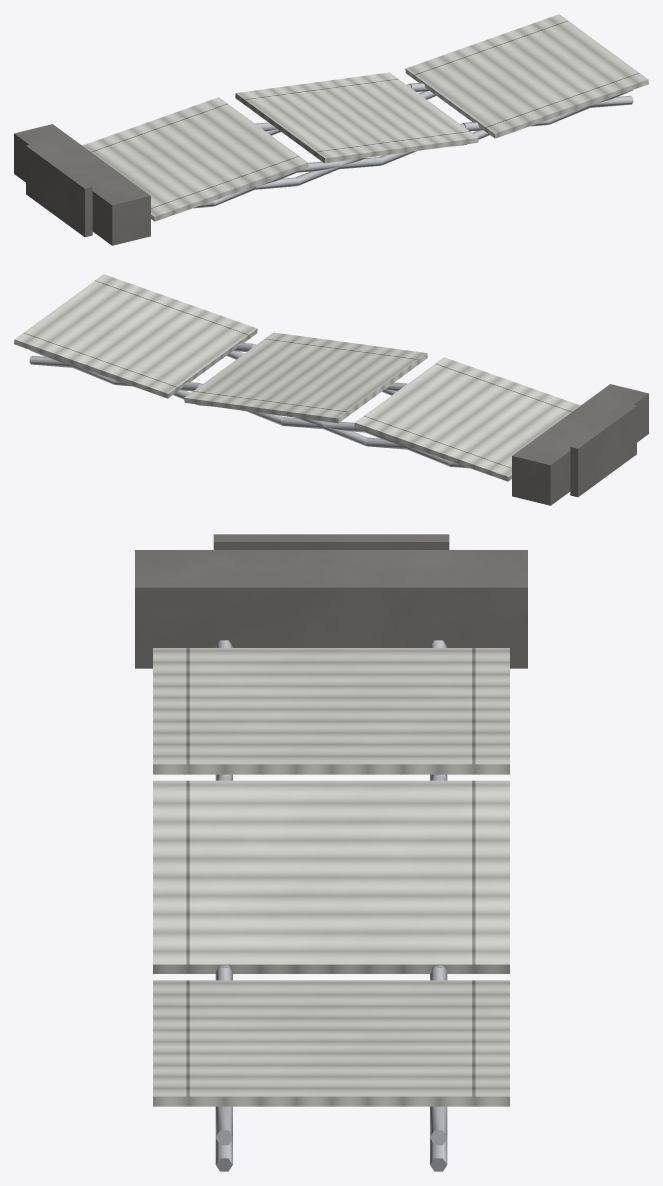
The model's file is power08_radiator_s_deployed.glb.
3 renders of one model, top to bottom at view 1: azimuth 30°, elevation 25°; view 2: azimuth 150°, elevation 25°; view 3: azimuth 270°, elevation 25°, orthographic. The views are drawn at different scales.
Parts seen in each view (by area): view 1: panels, base_box, scissor_mechanism; view 2: panels, base_box, scissor_mechanism; view 3: panels, base_box, scissor_mechanism.
Boxes of the visible parts, x1,y1,x2,y2 form: panels: (82, 14, 648, 221); base_box: (14, 124, 150, 245); scissor_mechanism: (193, 82, 633, 208); panels: (14, 274, 580, 481); base_box: (512, 384, 648, 505); scissor_mechanism: (29, 342, 469, 468); panels: (153, 648, 509, 1106); base_box: (135, 534, 527, 668); scissor_mechanism: (215, 640, 447, 1171).
Size of the model in its own units: 3.55 by 0.3137 by 1.1.
3 materials, 3 textured.
